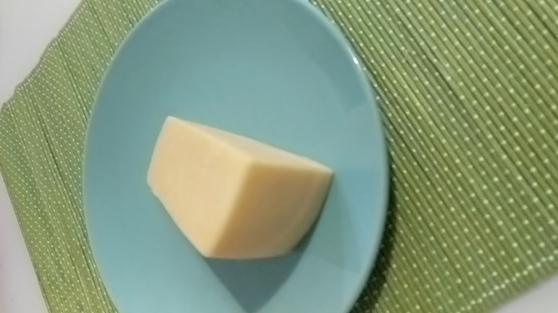cheese: (143, 112, 338, 259)
